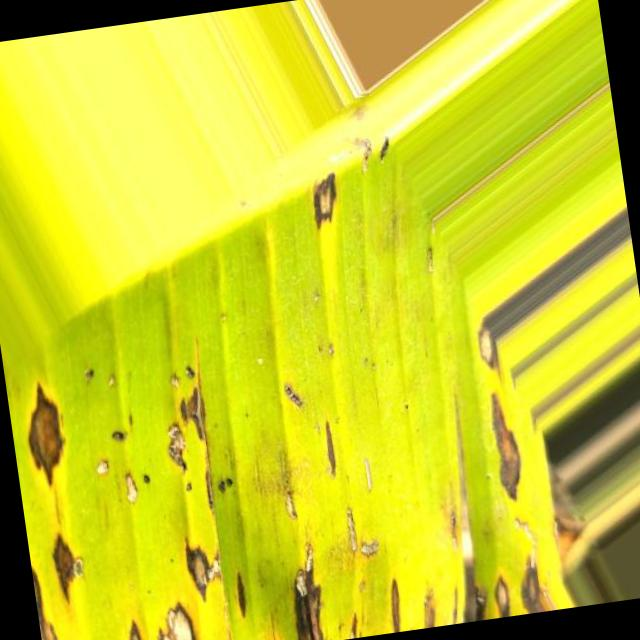Banana_Yellow_Sigatoka: (108, 518, 345, 640), (472, 392, 546, 518), (12, 381, 88, 489), (41, 521, 96, 606)
